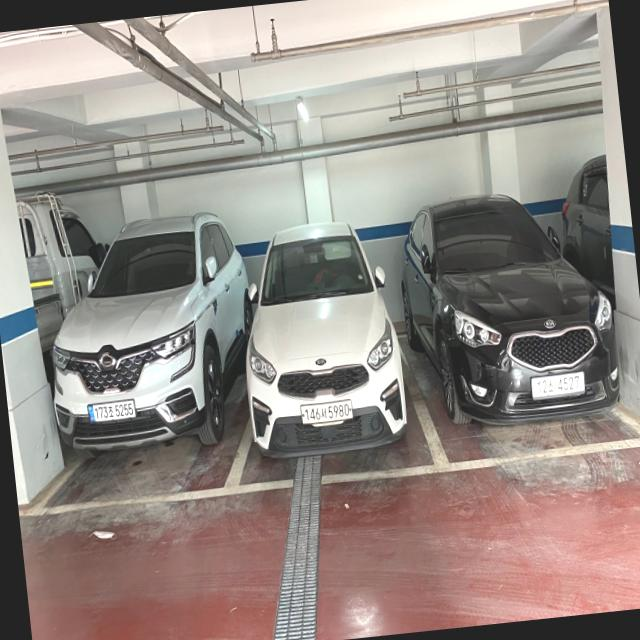car: (16, 213, 253, 522), (401, 187, 634, 482), (208, 217, 434, 506)
